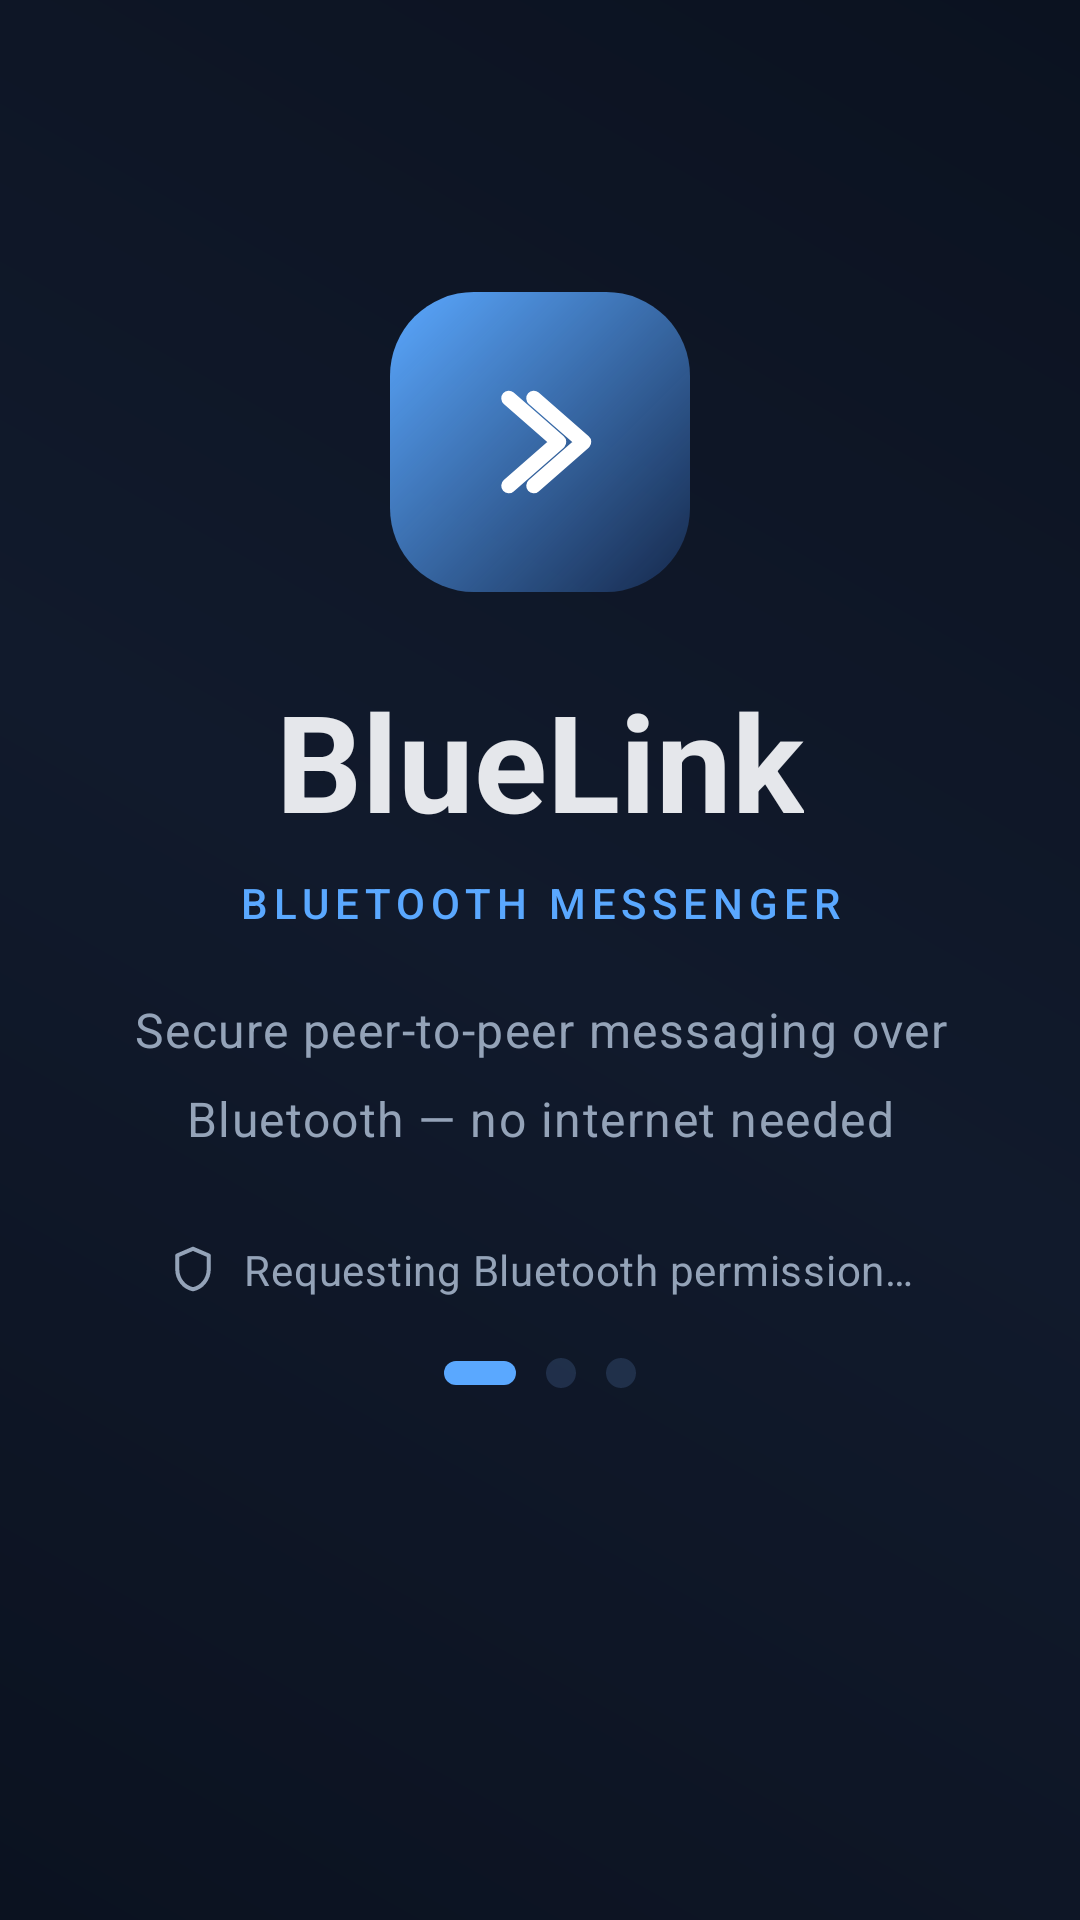

Named icons in this screenshot (1080px x 1920px) and their bounding boxes, (x1, y1, x2, y2):
shield line: (175, 1246, 211, 1292)
